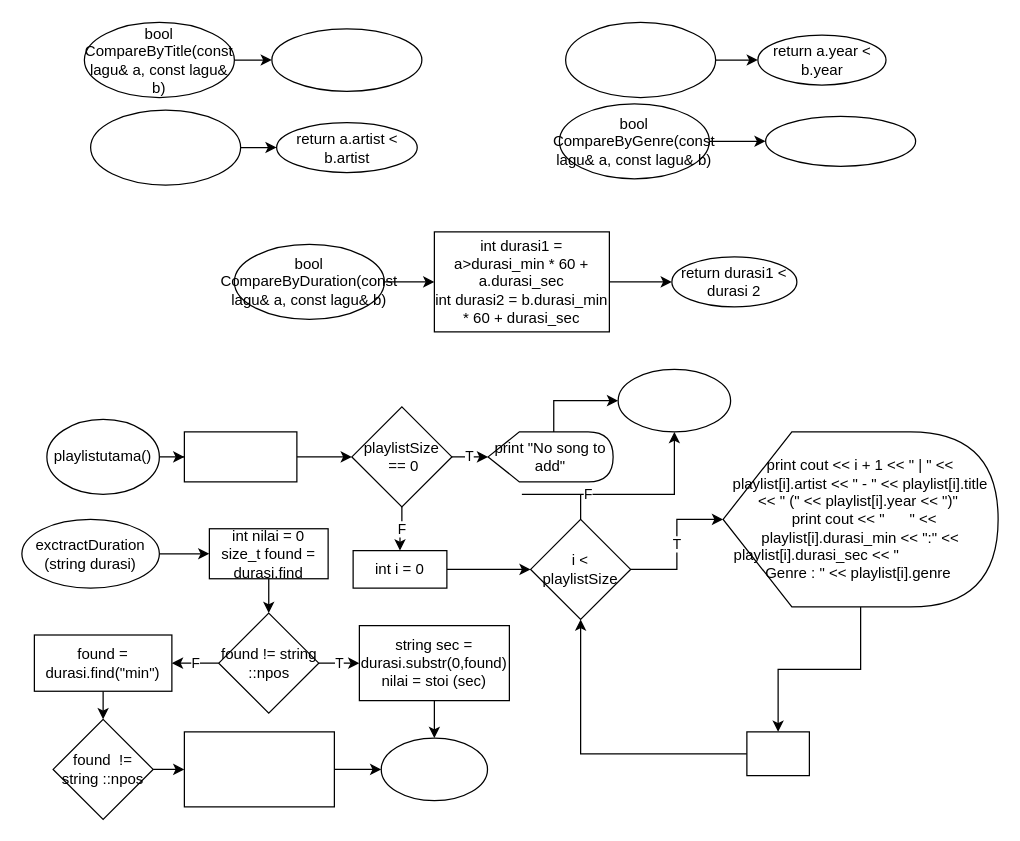
Some shapes in this 1020 by 841 pixel diagram are drawn without their labels. The shapes that lost their labels are listed below. From the top down, each one's centre as x and y in pixels, then its label:
[346,59]: return a.title < b.title
[640,59]: bool CompareByYear(const lagu& a, const lagu& b)
[165,147]: bool CompareByArtist(const lagu& a, const lagu& b)
[840,140]: return a.genre < b.genre
[674,400]: return 0
[240,456]: playlistSize = 0
[258,769]: string min = durasi.substr(0,found) nilai = stoi(min)
[434,769]: return nilai
[777,753]: i++
